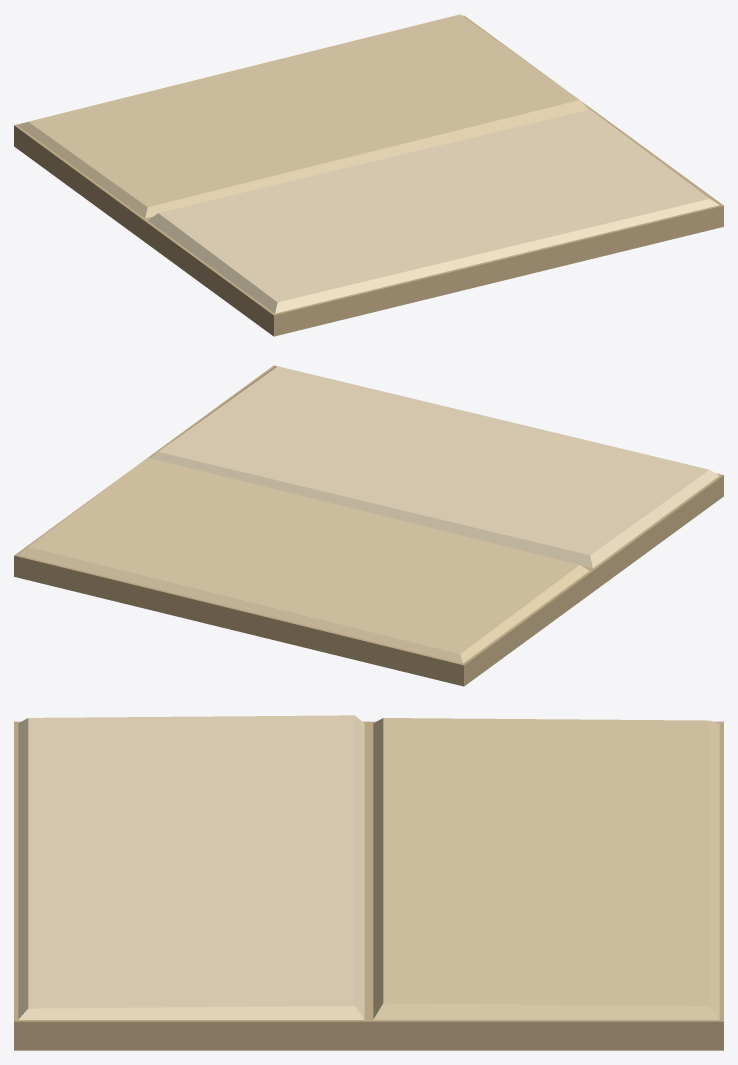
File: paving_tile_a.glb
3 views of the same model, one above another, from view 1: azimuth 30°, elevation 25°; view 2: azimuth 150°, elevation 25°; view 3: azimuth 270°, elevation 25° (orthographic). The views are drawn at different scales.
Parts seen in each view (by area): view 1: paving_tile_a; view 2: paving_tile_a; view 3: paving_tile_a.
Boxes of the visible parts, x1,y1,x2,y2 form: paving_tile_a: (14,14,723,336); paving_tile_a: (14,365,723,686); paving_tile_a: (14,715,723,1050).
Bounding box in the file's own units: 1 × 0.064 × 1.
